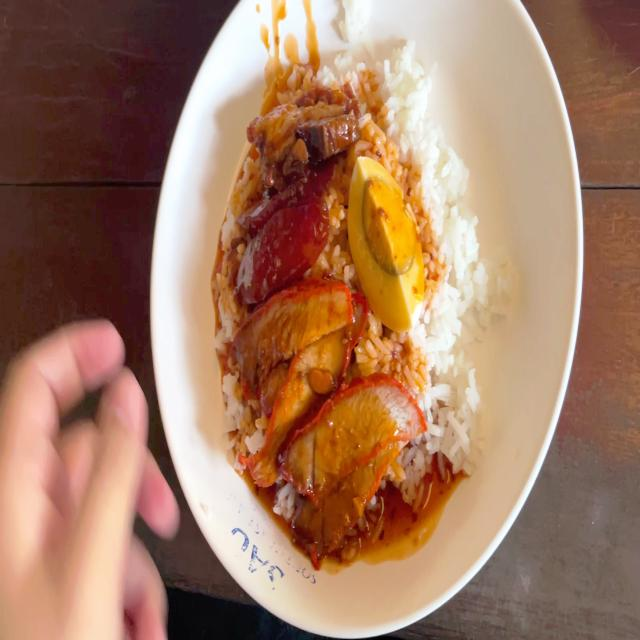boiled_egg: (352, 160, 424, 325)
chainese_sausage: (234, 182, 338, 288)
crispy_pork: (252, 78, 358, 158)
red_pork: (232, 293, 409, 523)
red_pork_and_crispy_pork: (217, 53, 500, 526)
rice: (419, 162, 490, 466), (360, 54, 446, 166)
